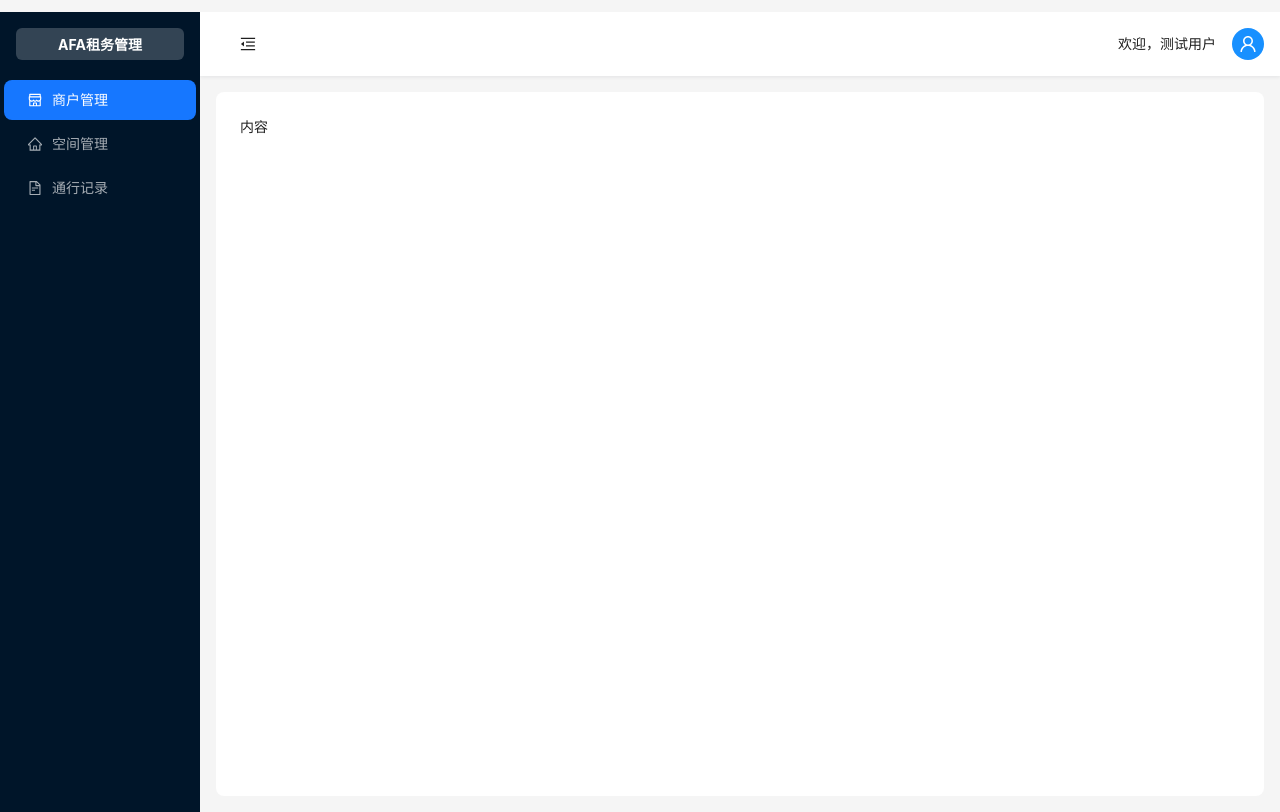
Test: DashboardLayout › 侧边栏功能测试 › 应该支持侧边栏展开收起
Expected: the text "AFA租务管理" is shown, [16,28,184,60]
Click the button at {"x": 248, "y": 44}, box [216,12,280,76]
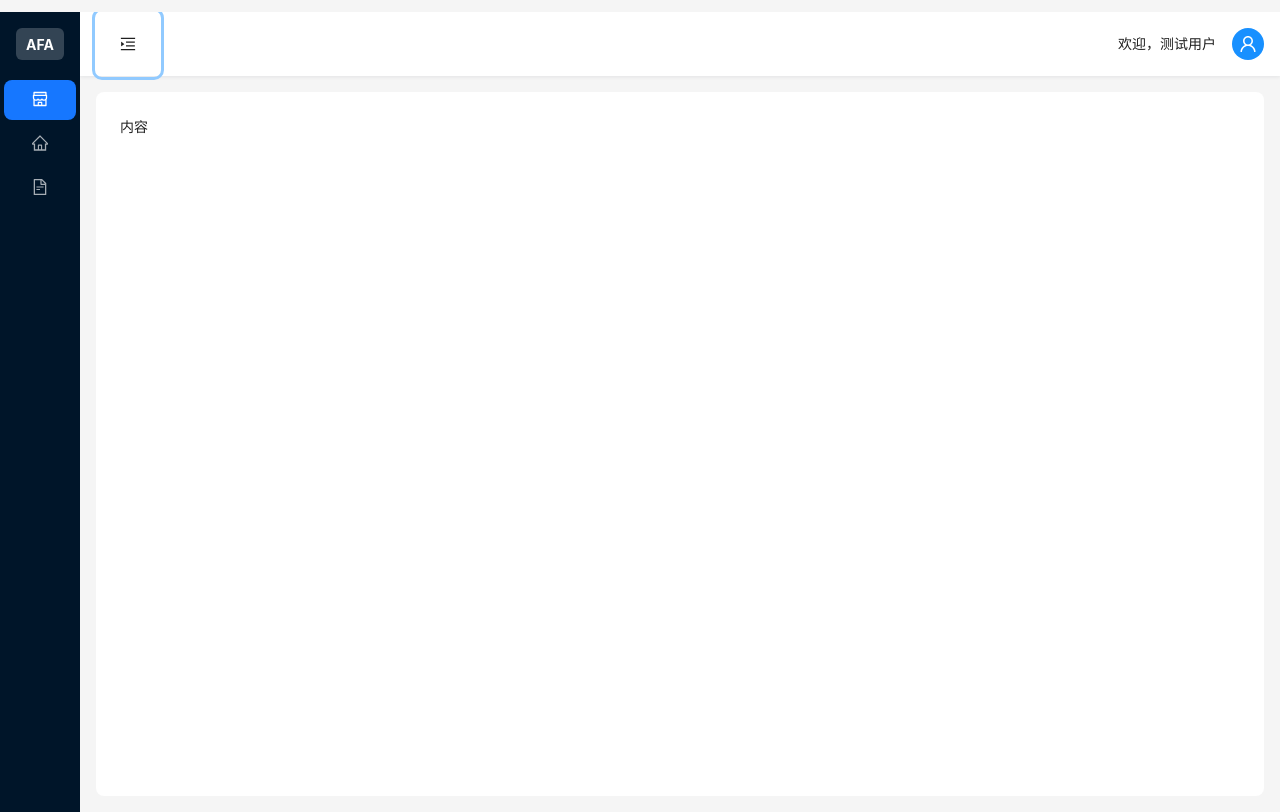
Expected: the text "AFA" is shown, [16,28,64,60]
Click the button at {"x": 128, "y": 44}, box [96,12,160,76]
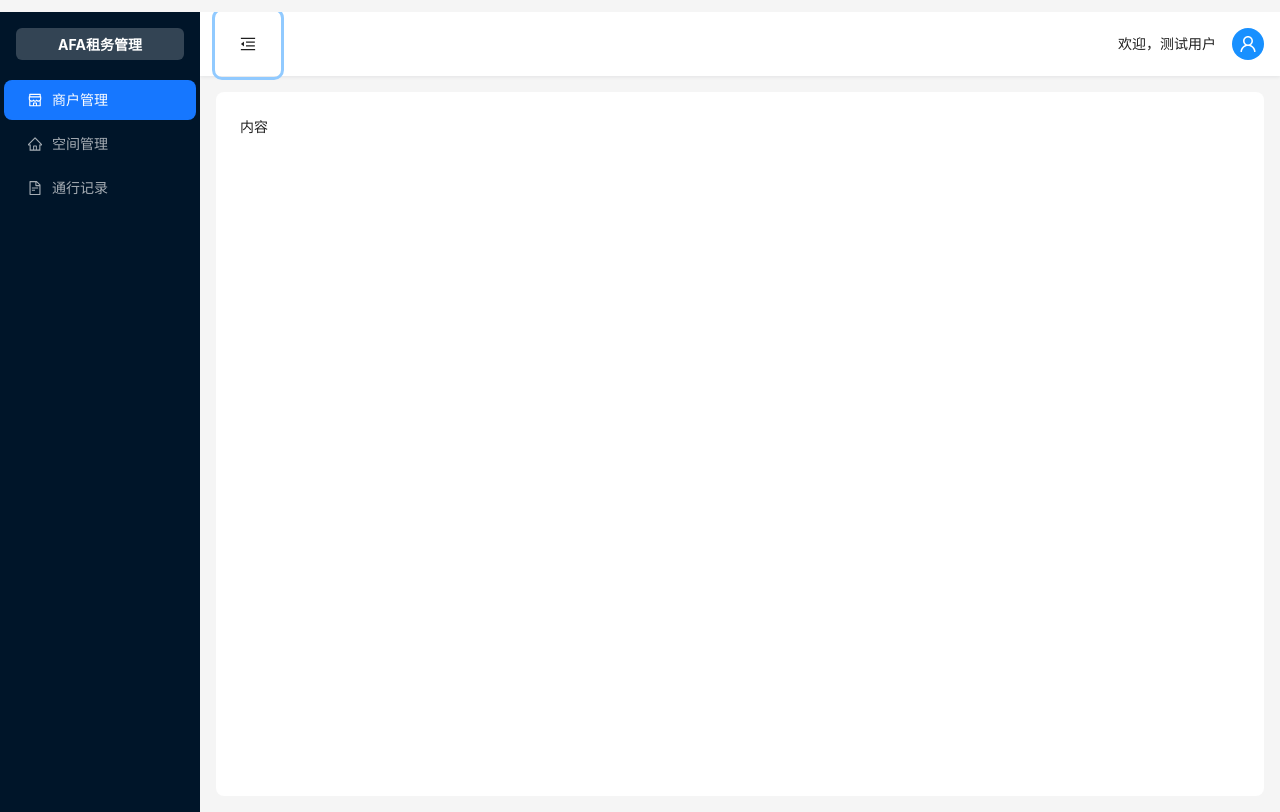
Expected: the text "AFA租务管理" is shown, [16,28,184,60]
